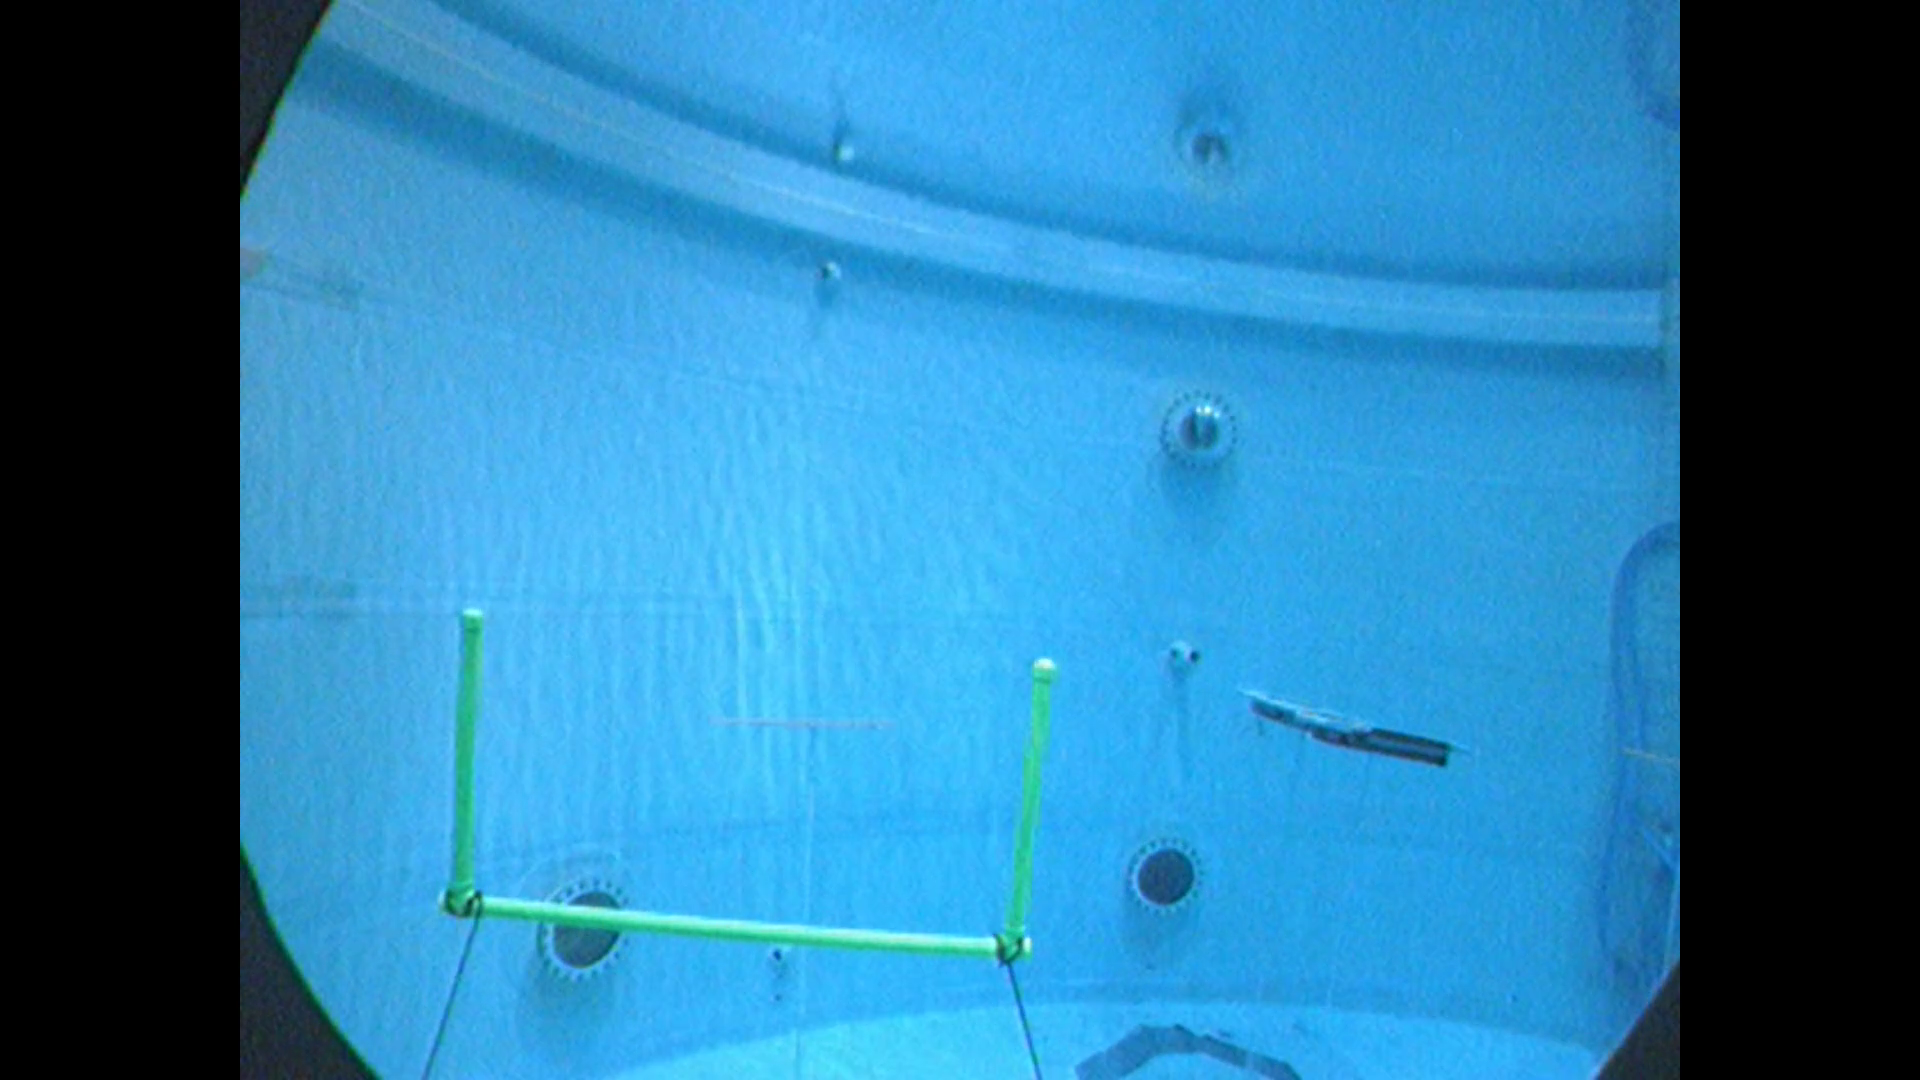gate: (440, 603, 1063, 963)
